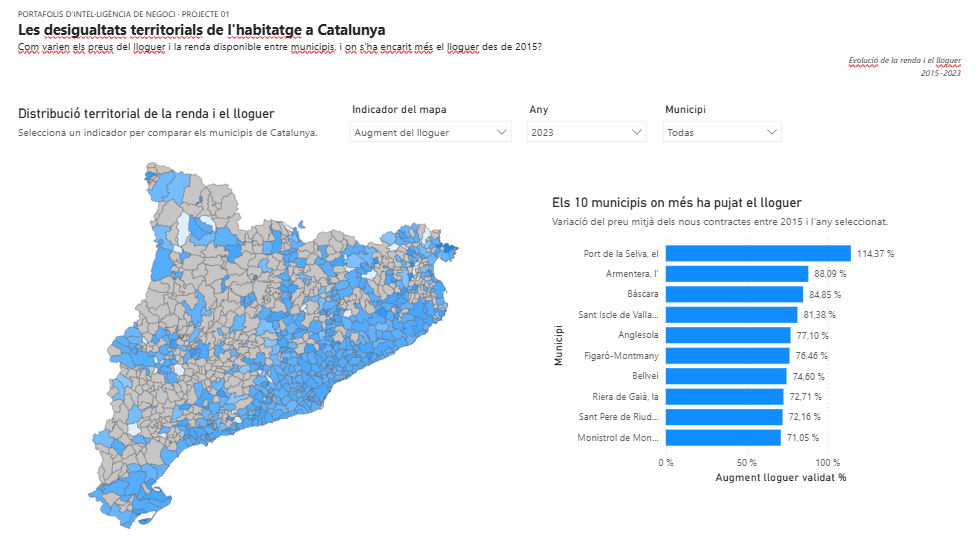

The dashboard page shown, as its layout file describes it:
{"tool":"powerbi","page":{"name":"Desigualtats territorials","canvas":[1280,720],"ordinal":1},"visuals":[{"type":"shapeMap","title":"Distribució territorial de la renda i el lloguer","fields":{"Category":["Dim_Municipis.CodiMunicipi"],"Value":["Dim_Anys.Augment del lloguer"]},"box":[27.4,146.4,665.8,573.1],"z":0},{"type":"slicer","fields":{"Values":["Dim_Anys.Any"]},"box":[674.8,137.1,174,112.8],"z":1000},{"type":"slicer","fields":{"Values":["Dim_Municipis.Municipi"]},"box":[848.8,137.1,172.9,62.2],"z":2000},{"type":"slicer","fields":{"Values":["Indicador del mapa.Indicador del mapa"]},"box":[447.1,137.1,227.7,123.4],"z":3000},{"type":"clusteredBarChart","title":"Els 10 municipis on més ha pujat el lloguer","fields":{"Category":["Dim_Municipis.Municipi"],"Y":["Dim_Anys.Augment lloguer validat %"]},"box":[748.6,284.7,469.2,374.3],"z":4000},{"type":"textbox","box":[27.4,22.1,1218.9,114.8],"z":5000}]}

Visuals, with their boxes in screenshot pixels (x1, y1, x2, y2), scaled from the page's 1280x720 canvas onto the 976x545 screenshot:
"Distribució territorial de la renda i el lloguer" shapeMap: box(21, 111, 529, 544)
slicer - Dim_Anys.Any: box(515, 104, 647, 189)
slicer - Dim_Municipis.Municipi: box(647, 104, 779, 151)
slicer - Indicador del mapa.Indicador del mapa: box(341, 104, 515, 197)
"Els 10 municipis on més ha pujat el lloguer" clusteredBarChart: box(571, 216, 929, 499)
textbox: box(21, 17, 950, 104)
